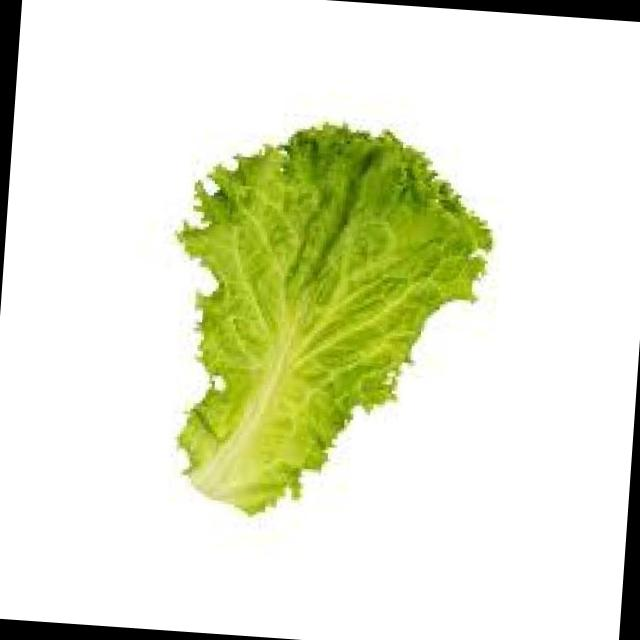Lettuce-Ready-to-Harvest: (179, 124, 491, 513)
